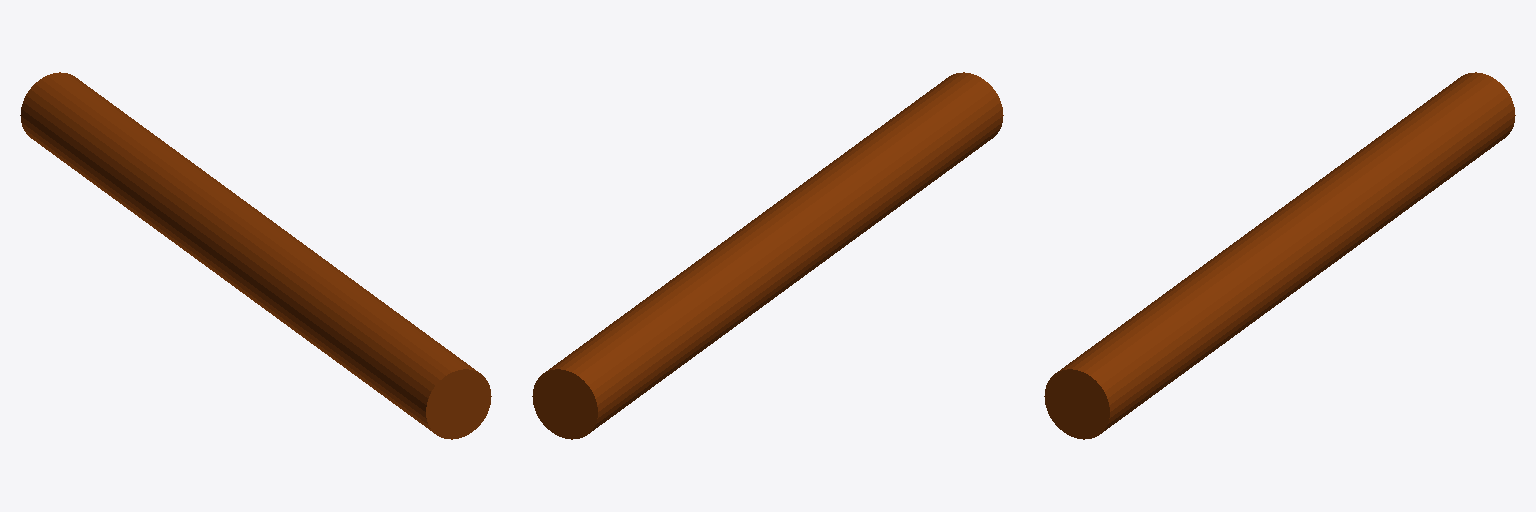
robot.urdf — cylinder:
<?xml version="1.0" ?>
<!-- =================================================================================== -->
<!-- |    This document was autogenerated by xacro from cylinder.xacro                 | -->
<!-- |    EDITING THIS FILE BY HAND IS NOT RECOMMENDED                                 | -->
<!-- =================================================================================== -->
<robot name="cylinder">
  <link name="world"/>
  <link name="base">
    <visual>
      <origin rpy="1.57079633 0 0" xyz="0 0 0"/>
      <geometry>
        <cylinder length="7.07106781185" radius="0.33"/>
      </geometry>
      <material name="cylinder_material">
        <color rgba="0.545 0.271 0.075 1.0"/>
        <texture filename="../textures/tree_bark.jpg"/>
      </material>
    </visual>
    <collision>
      <origin rpy="1.57079633 0 0" xyz="0 0 0"/>
      <geometry>
        <cylinder length="7.07106781185" radius="0.33"/>
      </geometry>
    </collision>
    <inertial>
      <origin rpy="0 0 0" xyz="0 0 0"/>
      <mass value="1"/>
      <inertia ixx="4.193891666648429" ixy="0.0" ixz="0.0" iyy="4.193891666648429" iyz="0.0" izz="24.999999999890573"/>
    </inertial>
  </link>
  <joint name="base_joint" type="fixed">
    <parent link="world"/>
    <child link="base"/>
    <origin rpy="0 0 0" xyz="0.0 0.0 0.0"/>
  </joint>
</robot>

--- Render facts (derived) ---
The picture shows the robot from 3 angles, left to right: view 1: azimuth 30°, elevation 25°; view 2: azimuth 150°, elevation 25°; view 3: azimuth 330°, elevation 25°; orthographic projection.
Robot: cylinder — 2 links, 1 joints (1 fixed); root link world; default pose: all joints at 0.
Visible links, largest first — view 1: base; view 2: base; view 3: base.
Link boxes in pixels (x1=…): base: x1=20, y1=72, x2=491, y2=439; base: x1=532, y1=72, x2=1003, y2=439; base: x1=1044, y1=72, x2=1515, y2=439.
Size in the robot's own frame: 0.66 by 7.07 by 0.66 metres.
Geometry: primitives only (box / cylinder / sphere), no mesh files.
